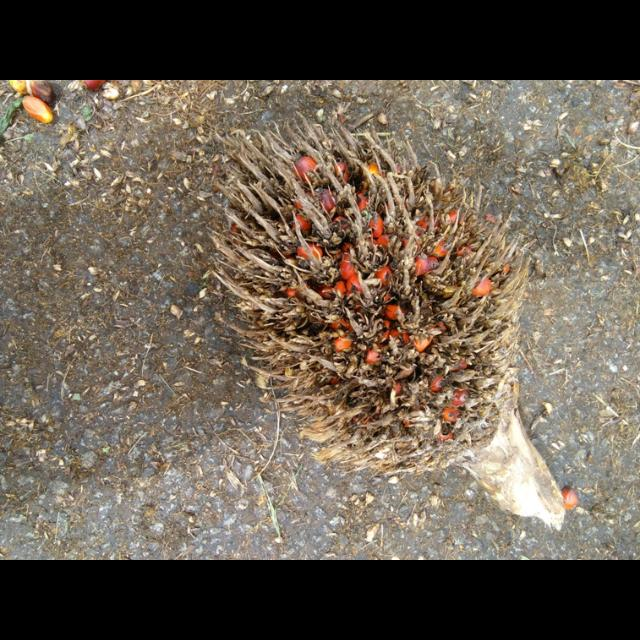Overripe: (210, 148, 570, 530)
